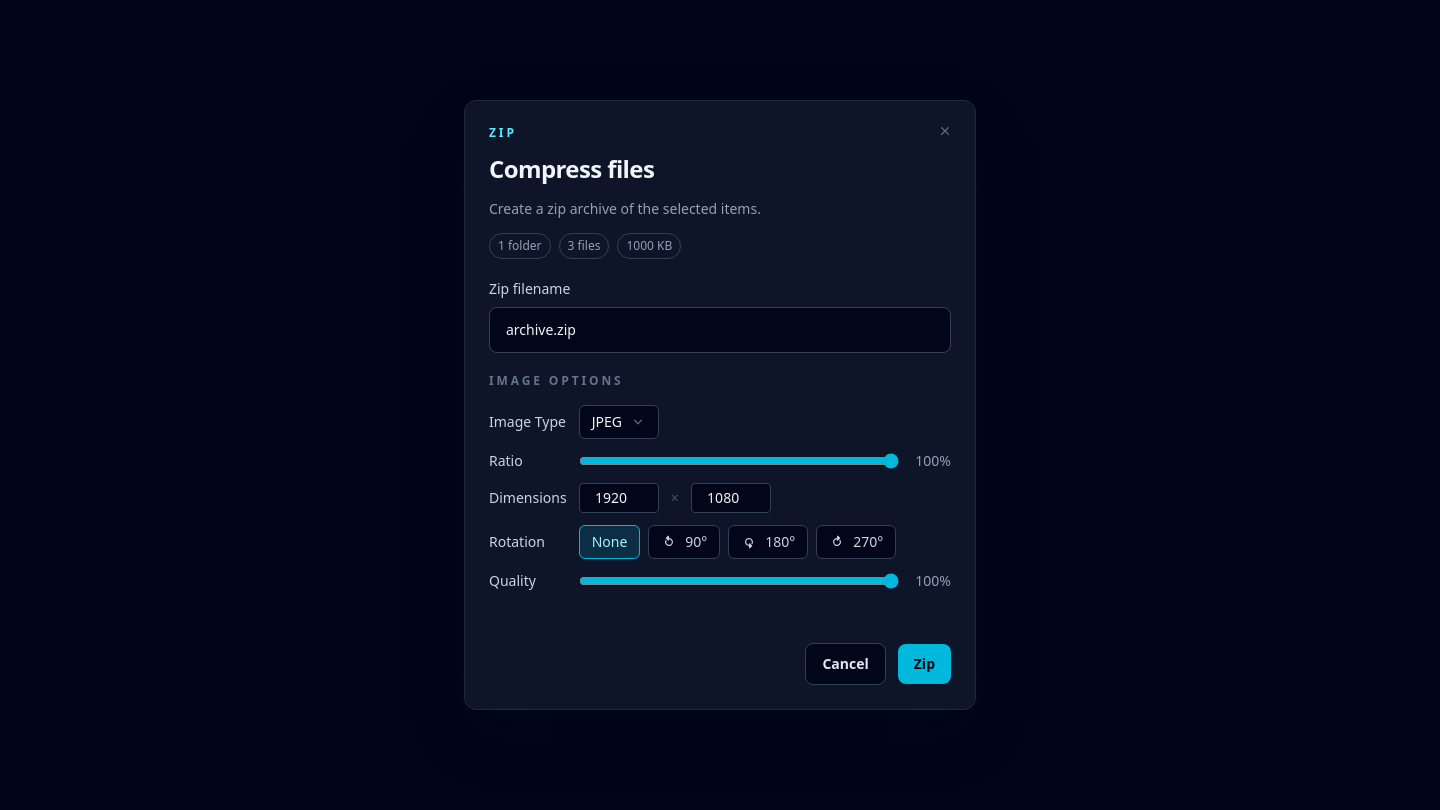
Test: CompressDialog › swaps dimensions when rotating 90 degrees
This screenshot has width=1440, height=810.
Click the button named "Rotate 90 degrees".
click(684, 542)  # box x1=648 y1=525 x2=720 y2=559
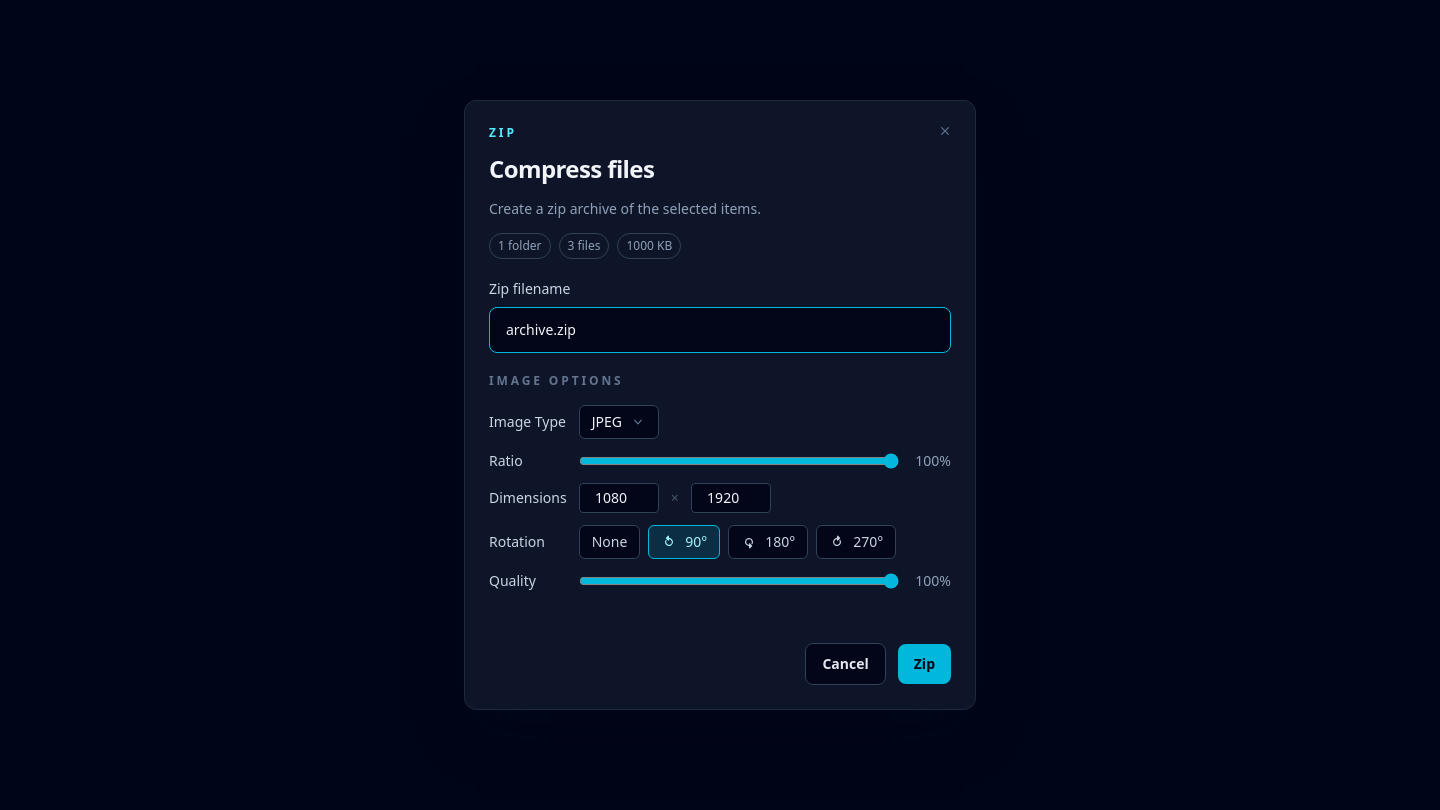
Expected: the number field named "Resize width" holds "1080", x1=579 y1=483 x2=659 y2=513
Expected: the number field named "Resize height" holds "1920", x1=691 y1=483 x2=771 y2=513
